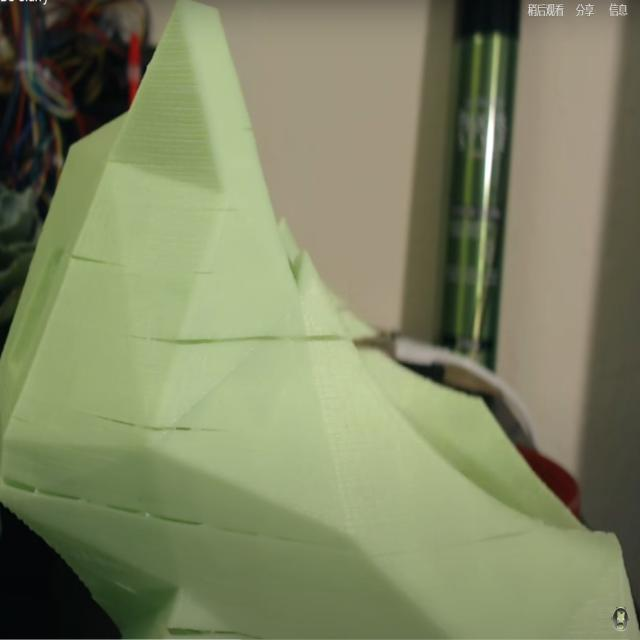Warping: (8, 471, 284, 564), (155, 324, 364, 374)
